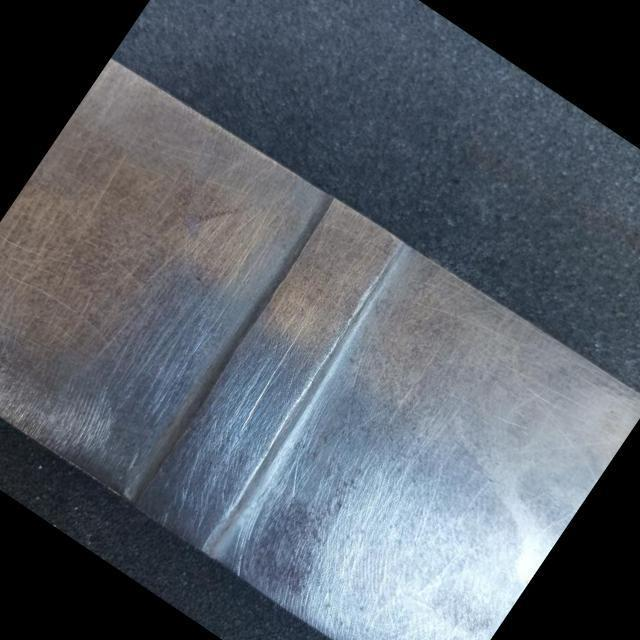defect: (241, 318, 311, 433)
